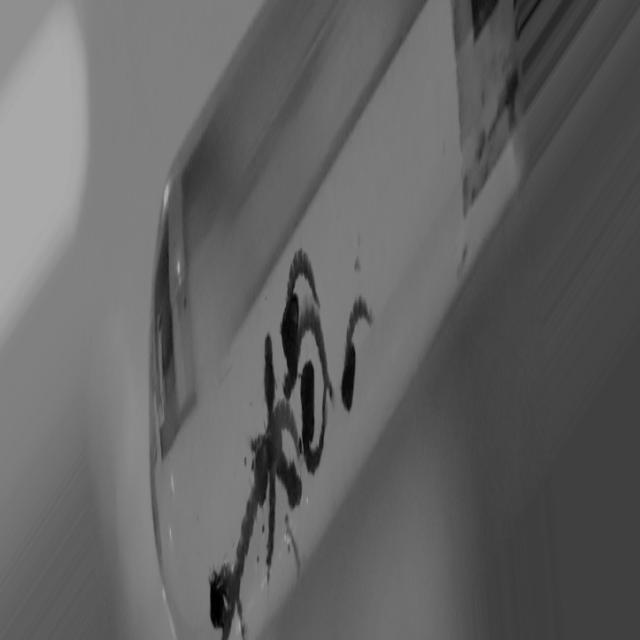larvas: (282, 294, 337, 402), (273, 238, 320, 361), (254, 421, 309, 513), (236, 444, 267, 564), (266, 326, 281, 565), (342, 298, 370, 406), (302, 365, 328, 471), (208, 570, 247, 628), (272, 403, 299, 446), (284, 512, 300, 569)
